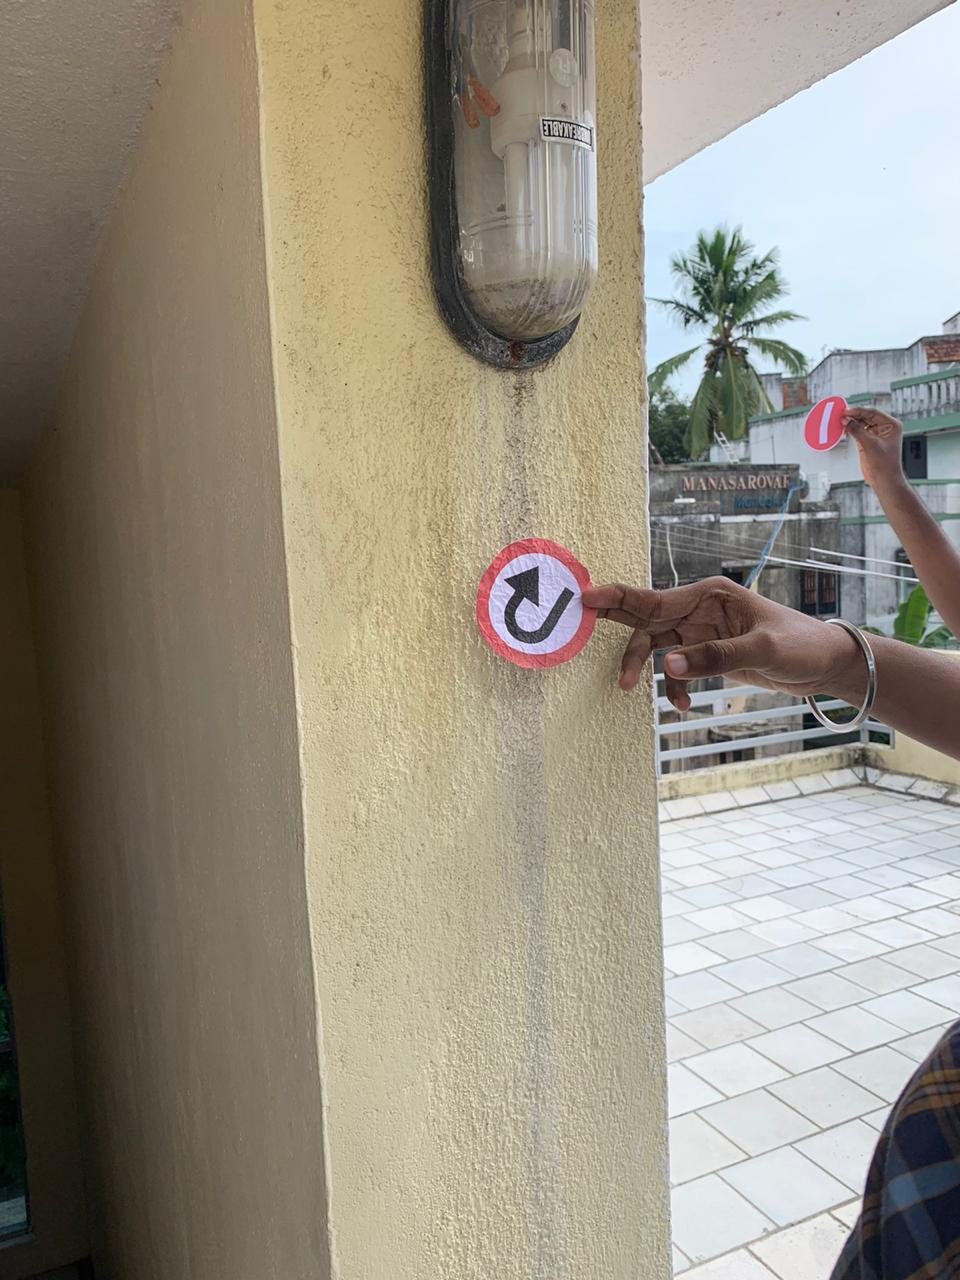U-TURN: (480, 519, 605, 676)
